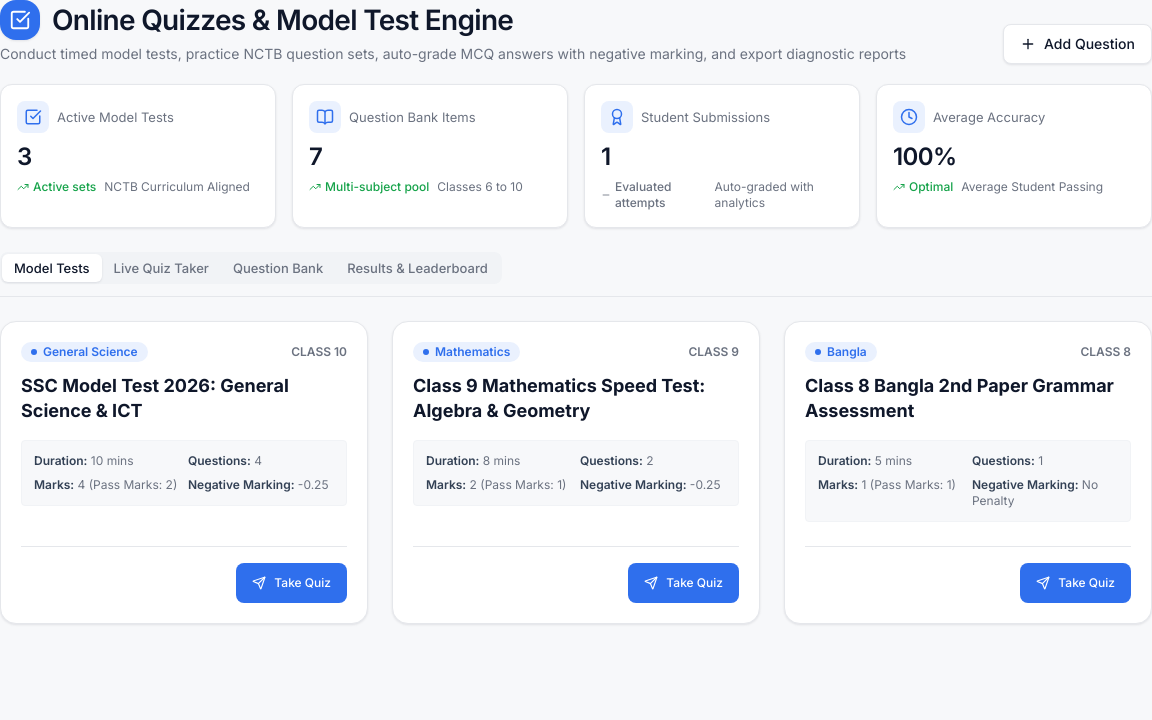
Test: OnlineQuizzes Component (Phase 21: Online MCQ Quiz & Model Test Engine) › switches to Question Bank tab, filters questions, and adds a new question
# Switch to Question Bank tab
Click the button "Question Bank" at (278, 268), box [221,254,335,282]
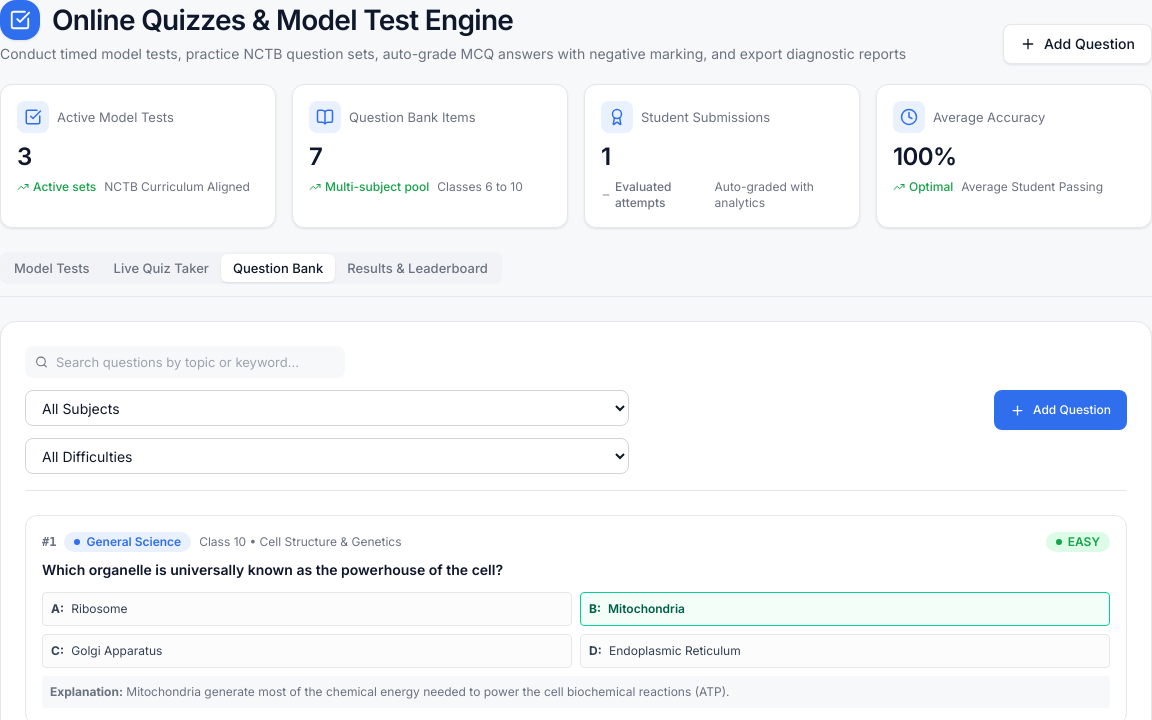
Now the field with placeholder "Search questions by topic or keyword..." is shown, box [56,352,335,372]
Now the text "Which organelle is universally known as the powerhouse of the cell?" is shown, box [42,561,503,578]
# Open Add Question modal
Click the button "Add Question" in the row of "Online Quizzes & Model Test Engine" at (1078, 44), box [1003,24,1151,64]
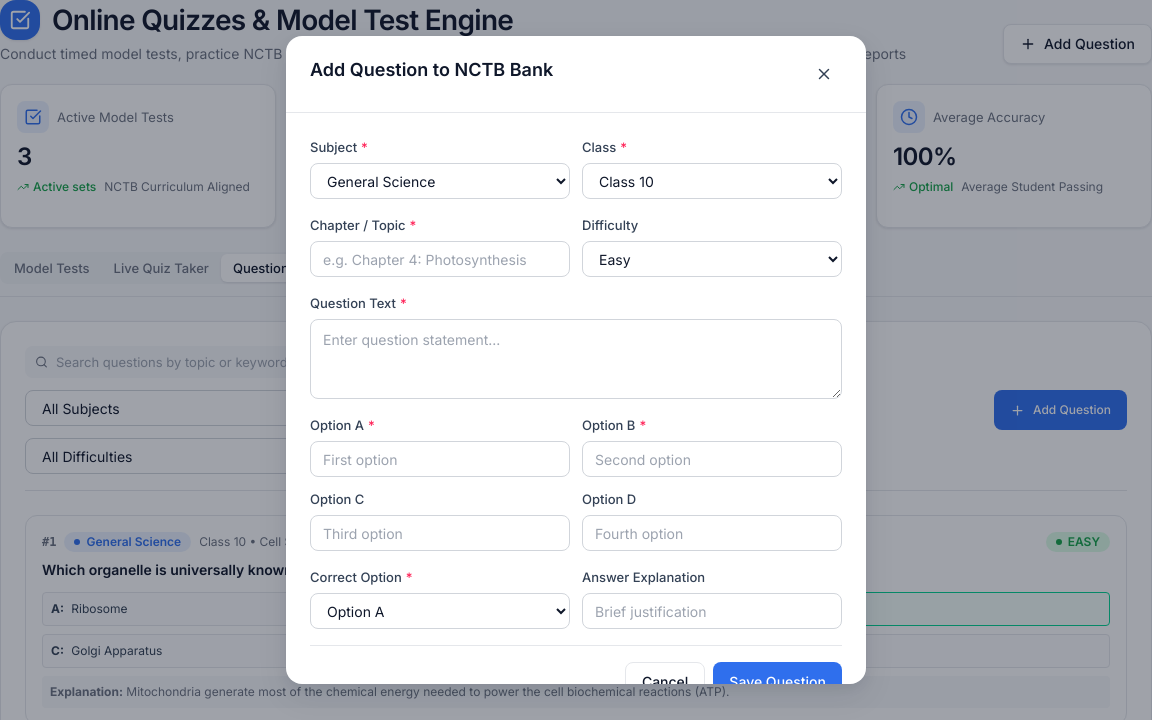
Now the text "Add Question to NCTB Bank" is shown, box [310,56,553,84]
# Fill form
Type "Chapter 5: Ecosystem" into the field with placeholder "e.g. Chapter 4: Photosynthesis" at (440, 259), box [310,241,570,277]
Type "What is the primary energy source of an ecosystem?" into the text box with placeholder "Enter question statement..." at (576, 359), box [310,319,842,399]
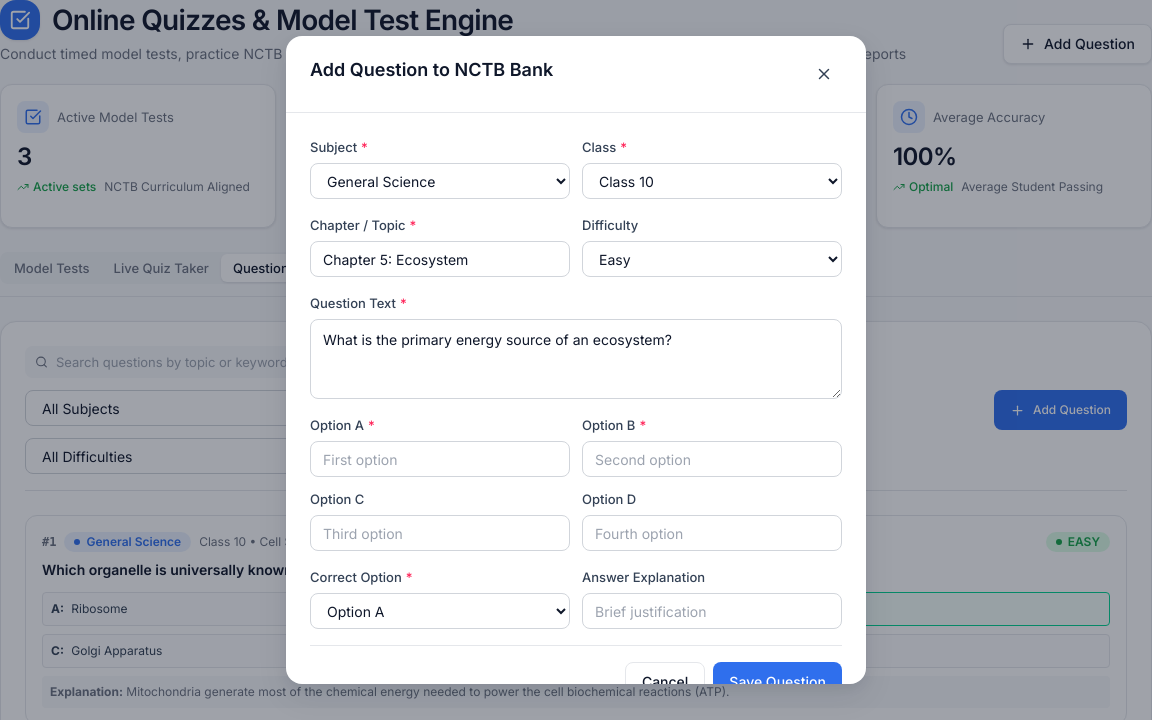
Type "Sunlight" into the field with placeholder "First option" at (440, 459), box [310,441,570,477]
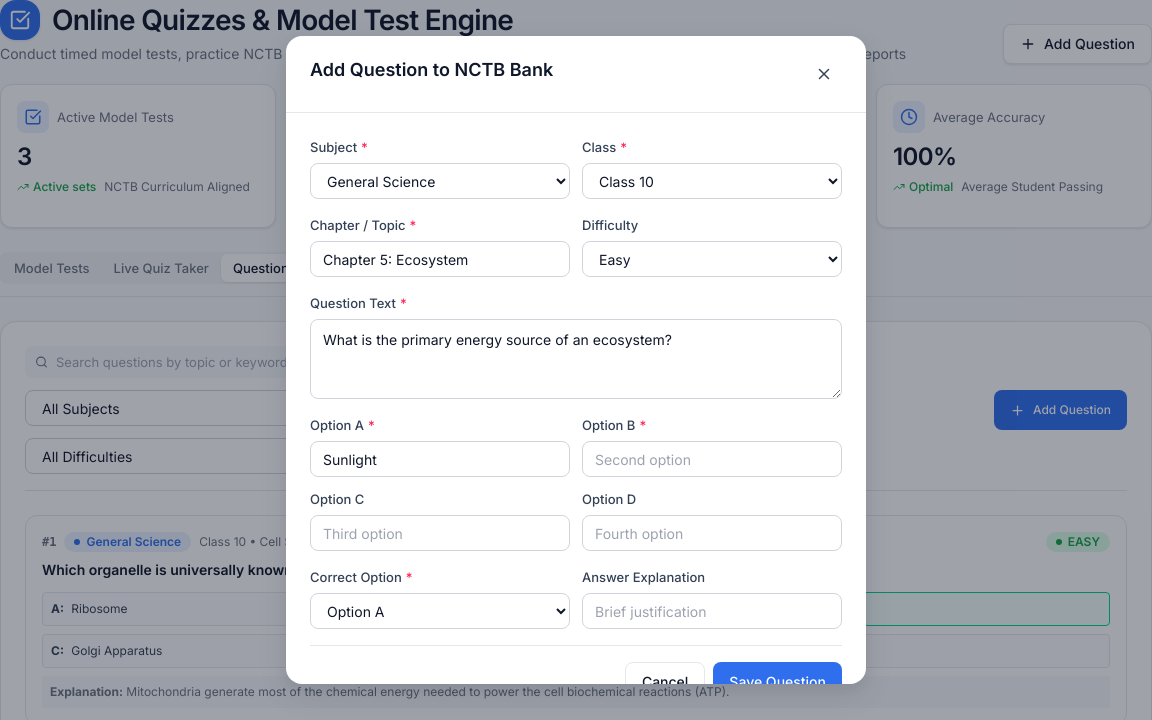
Type "Water" into the field with placeholder "Second option" at (712, 459), box [582,441,842,477]
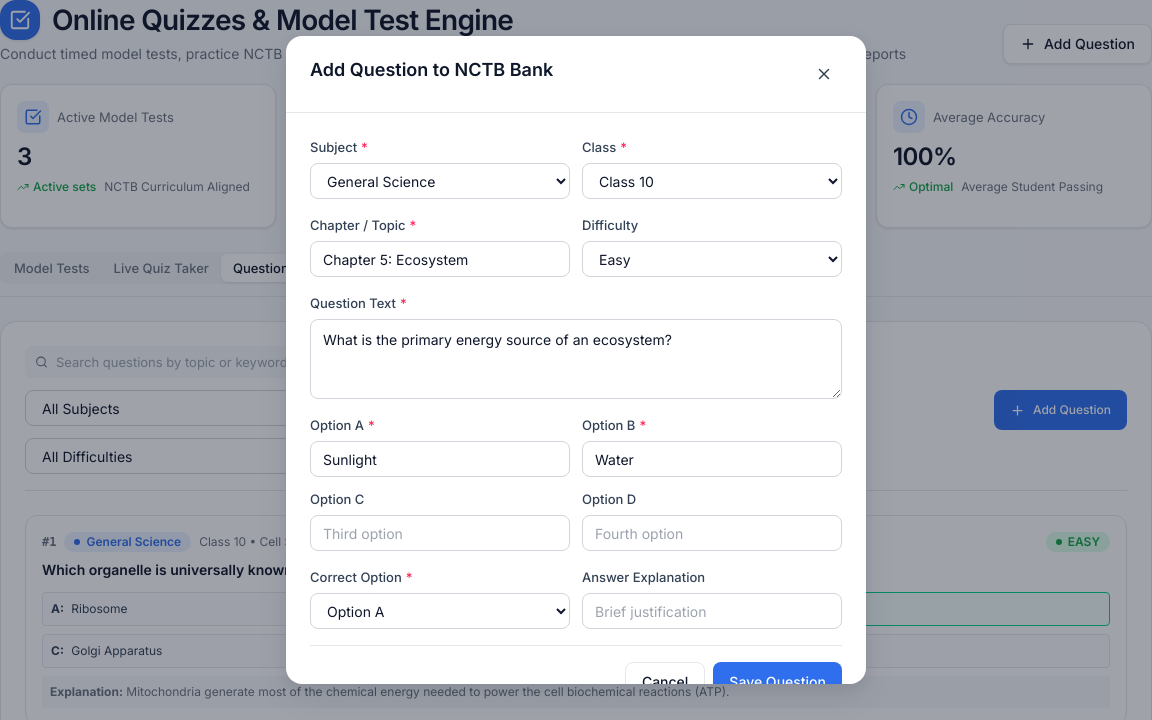
Click the button "Save Question" at (778, 682), box [713,662,842,702]
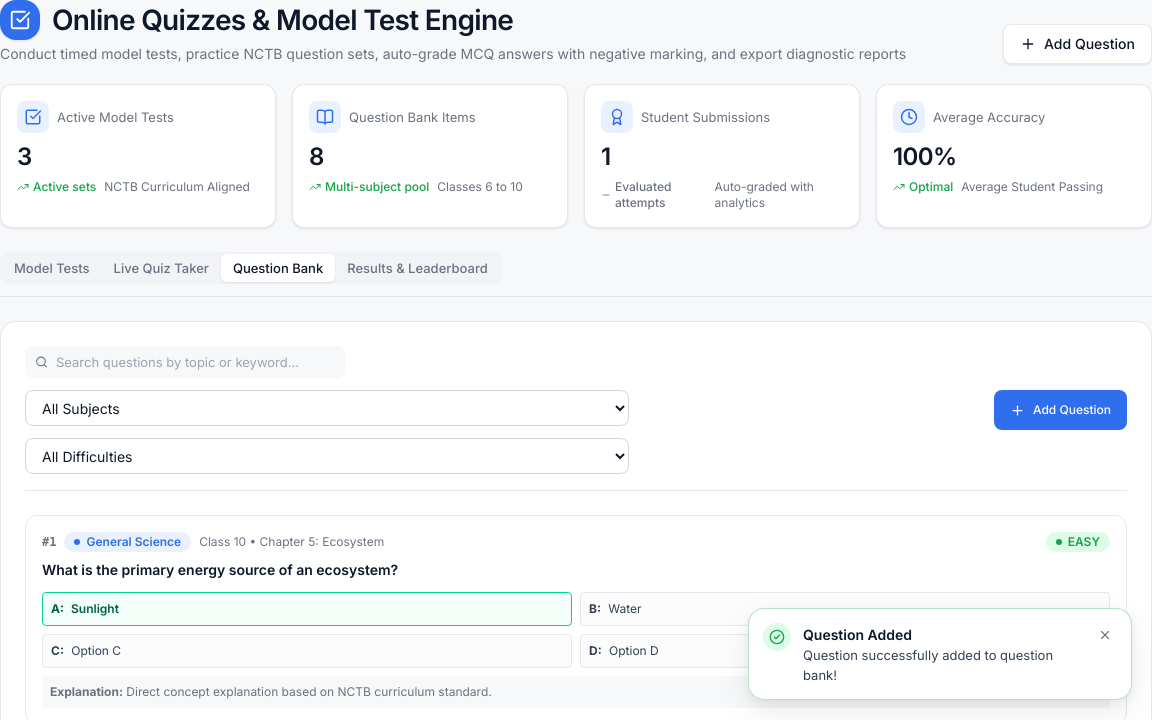
Now the text "What is the primary energy source of an ecosystem?" is shown, box [42,561,398,578]
